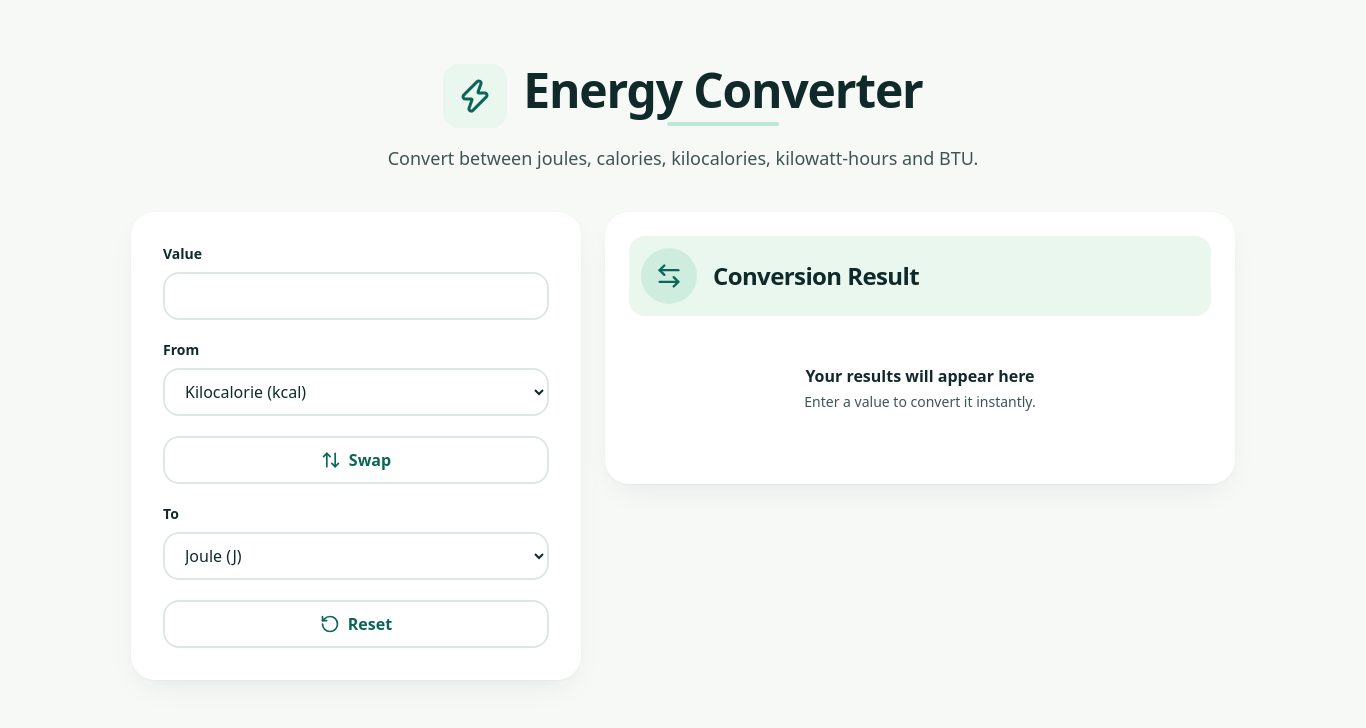
Energy Converter › converts instantly, and swaps
Step 1. Type "2" into the field labelled "Value" → (356, 296), box [163, 272, 549, 320]
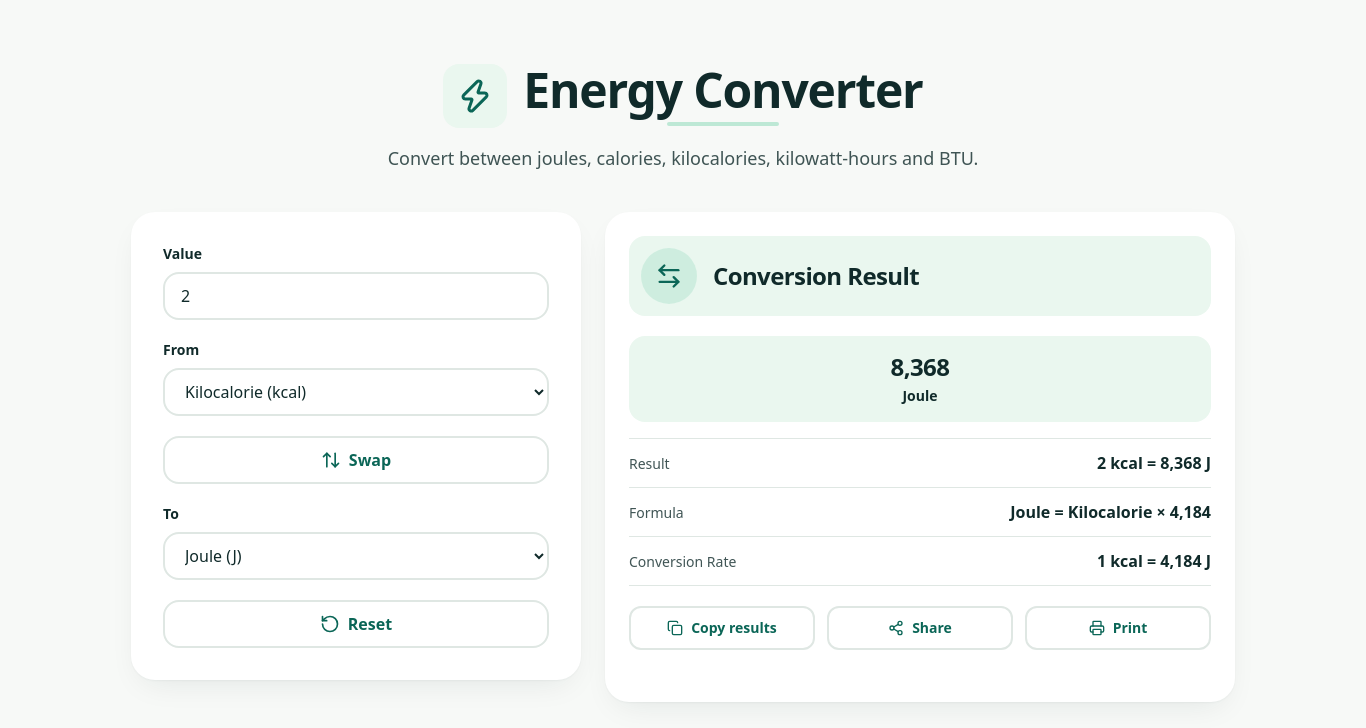
Step 2. Click the button with aria-label "Swap units" → (356, 460), box [163, 436, 549, 484]
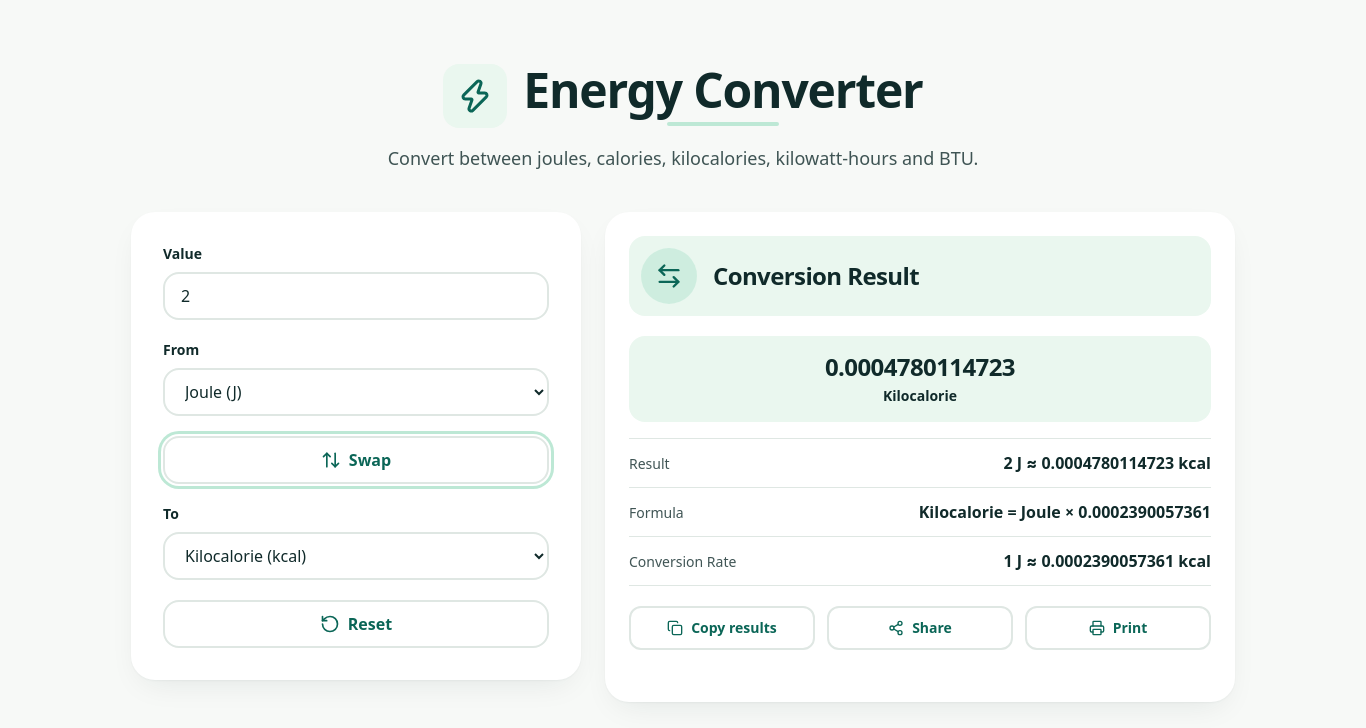
Check: the dropdown labelled "From" shows "Joule (J)", box [163, 368, 549, 416]
Check: the dropdown labelled "To" shows "Kilocalorie (kcal)", box [163, 532, 549, 580]
